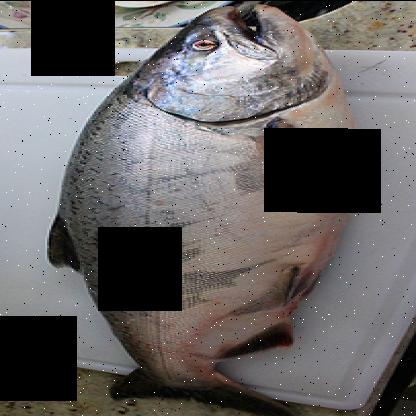fish: (45, 5, 365, 414)
